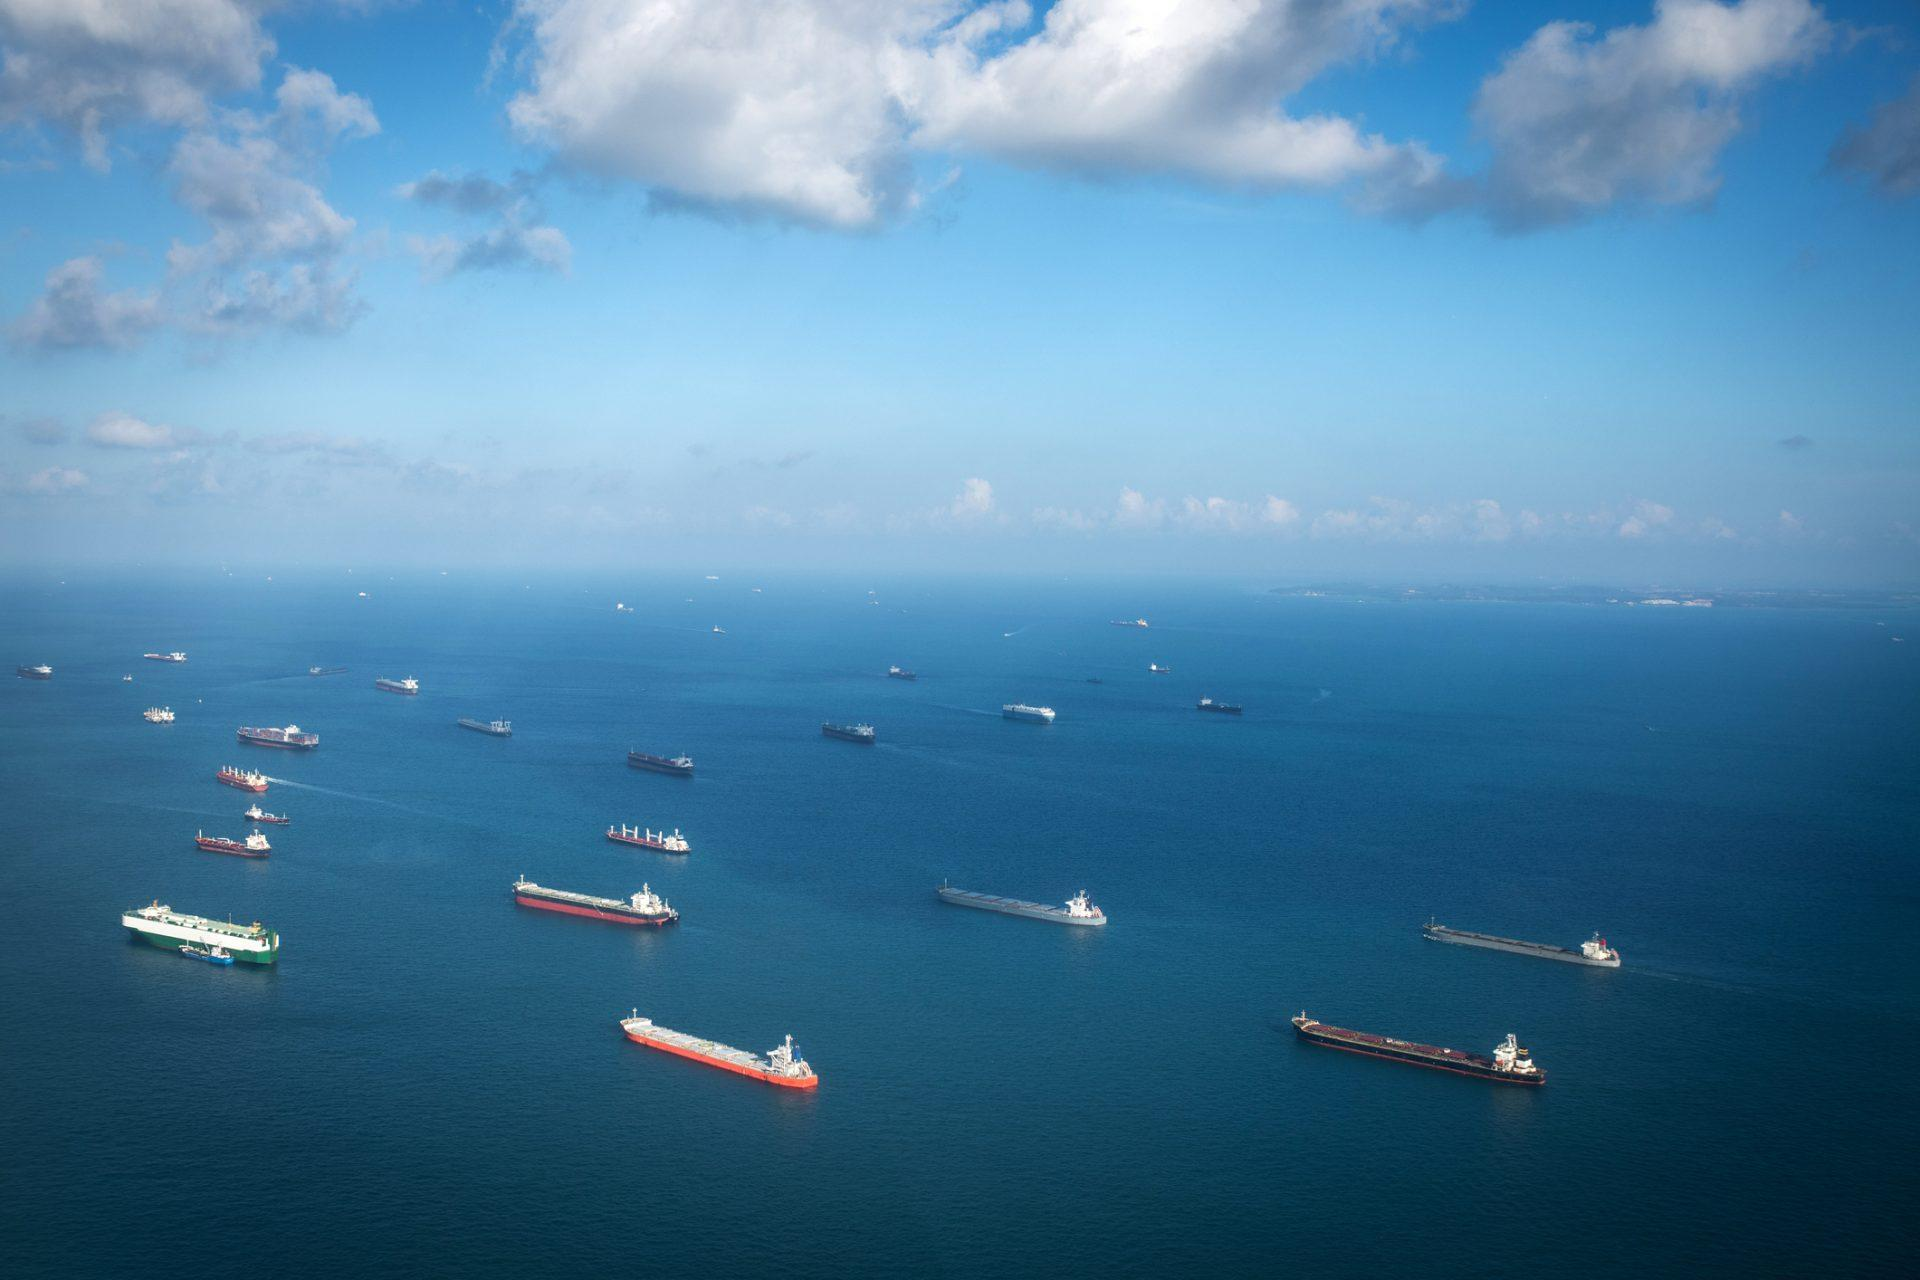Ship: (1279, 1004, 1561, 1119), (604, 999, 836, 1114), (109, 894, 299, 977), (1404, 911, 1643, 974), (921, 867, 1119, 934), (497, 874, 684, 941), (591, 809, 713, 857), (219, 707, 330, 756), (621, 739, 716, 789), (199, 754, 287, 801), (811, 707, 894, 754), (184, 826, 286, 861), (447, 704, 521, 751)
